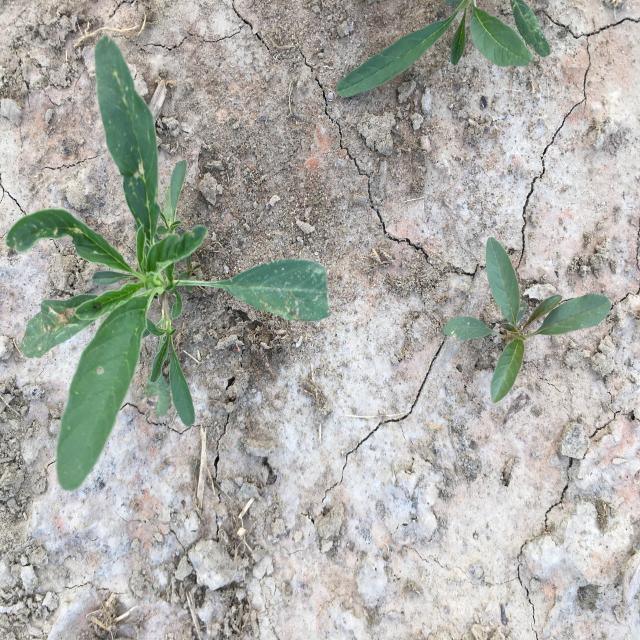Waterhemp: (6, 32, 330, 493), (442, 236, 612, 403), (336, 0, 552, 98)
